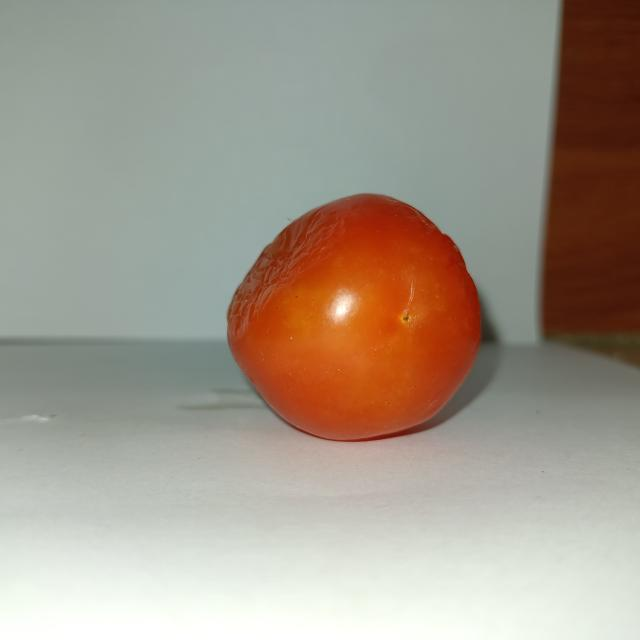Red: (225, 191, 483, 442)
